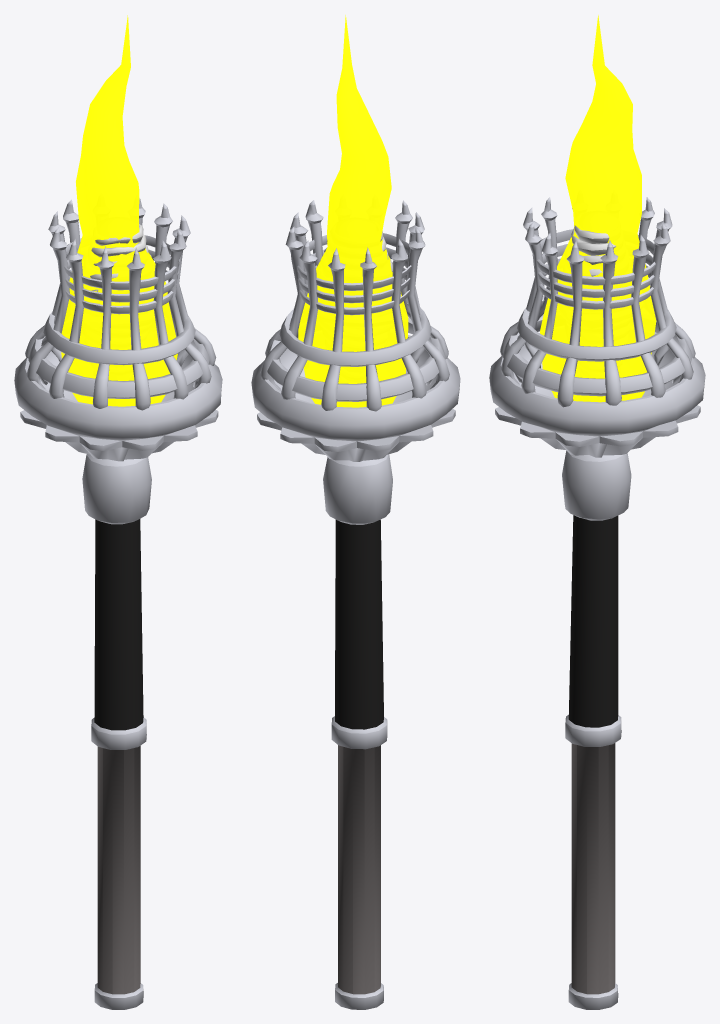
Rendered from torch.glb.
3 renders of one model, left to right at view 1: azimuth 30°, elevation 25°; view 2: azimuth 150°, elevation 25°; view 3: azimuth 270°, elevation 25°, orthographic.
Parts seen in each view (by area): view 1: torch, flame; view 2: torch, flame; view 3: torch, flame.
Part boxes in pixels (x1=…): torch: x1=14, y1=198, x2=222, y2=1009; flame: x1=61, y1=15, x2=177, y2=406; torch: x1=251, y1=200, x2=460, y2=1009; flame: x1=298, y1=15, x2=408, y2=407; torch: x1=489, y1=197, x2=705, y2=1009; flame: x1=540, y1=15, x2=656, y2=402.
Size of the model in its own units: 1.99 by 10.48 by 2.06.
